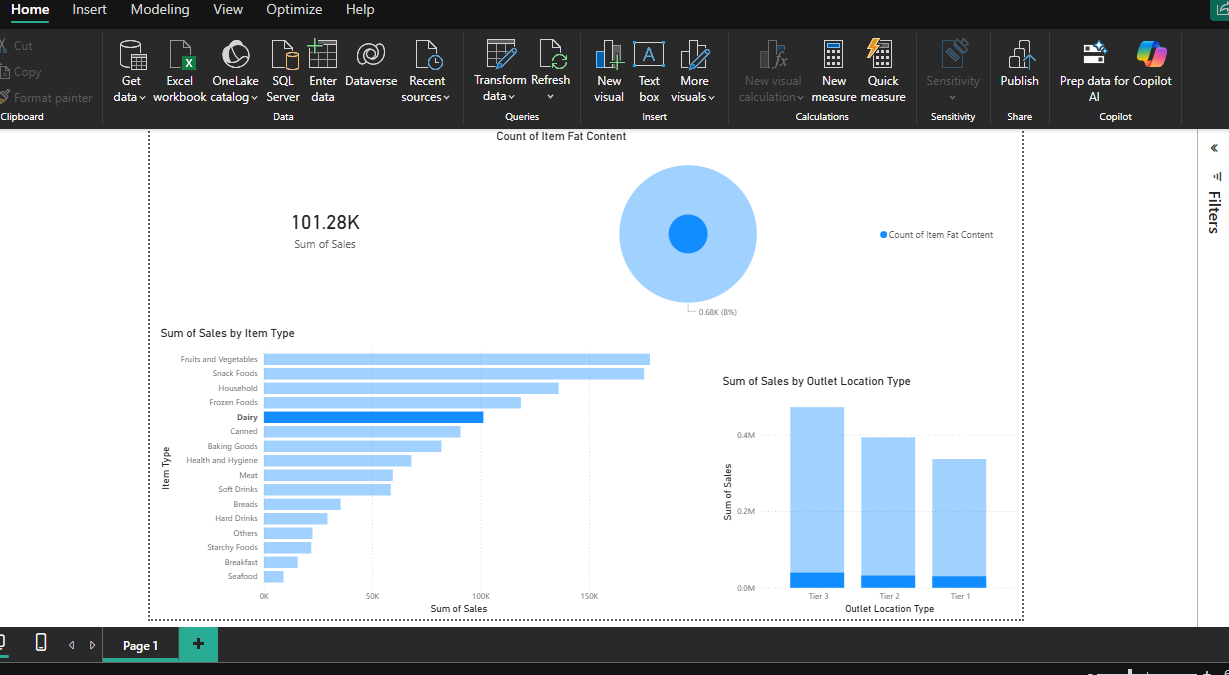

Layout of this report page (visuals, bound fields, positions):
{"tool":"powerbi","page":{"name":"Page 1","canvas":[1280,720],"ordinal":0},"visuals":[{"type":"card","fields":{"Values":["Sum(BlinkIT-Grocery-Data-Cleaned.Sales)"]},"box":[10,0,280,280],"z":0},{"type":"clusteredBarChart","fields":{"Category":["BlinkIT-Grocery-Data-Cleaned.Item Type"],"Y":["Sum(BlinkIT-Grocery-Data-Cleaned.Sales)"]},"box":[10,290,280,280],"z":1},{"type":"columnChart","fields":{"Category":["BlinkIT-Grocery-Data-Cleaned.Outlet Location Type"],"Y":["Sum(BlinkIT-Grocery-Data-Cleaned.Sales)"]},"box":[454,157.2,509.9,412.9],"z":2},{"type":"pieChart","fields":{"Y":["CountNonNull(BlinkIT-Grocery-Data-Cleaned.Item Fat Content)"]},"box":[974,0,280,280],"z":3}]}

Visuals, with their boxes on the page's 1280x720 design canvas (x1, y1, x2, y2). These are canvas units, not pixel positions in the 1229x675 screenshot, which may show the page scaled, cropped or inside an application window:
card - Sum(BlinkIT-Grocery-Data-Cleaned.Sales): detection(10, 0, 290, 280)
clusteredBarChart - BlinkIT-Grocery-Data-Cleaned.Item Type x Sum(BlinkIT-Grocery-Data-Cleaned.Sales): detection(10, 290, 290, 570)
columnChart - BlinkIT-Grocery-Data-Cleaned.Outlet Location Type x Sum(BlinkIT-Grocery-Data-Cleaned.Sales): detection(454, 157, 964, 570)
pieChart - CountNonNull(BlinkIT-Grocery-Data-Cleaned.Item Fat Content): detection(974, 0, 1254, 280)
